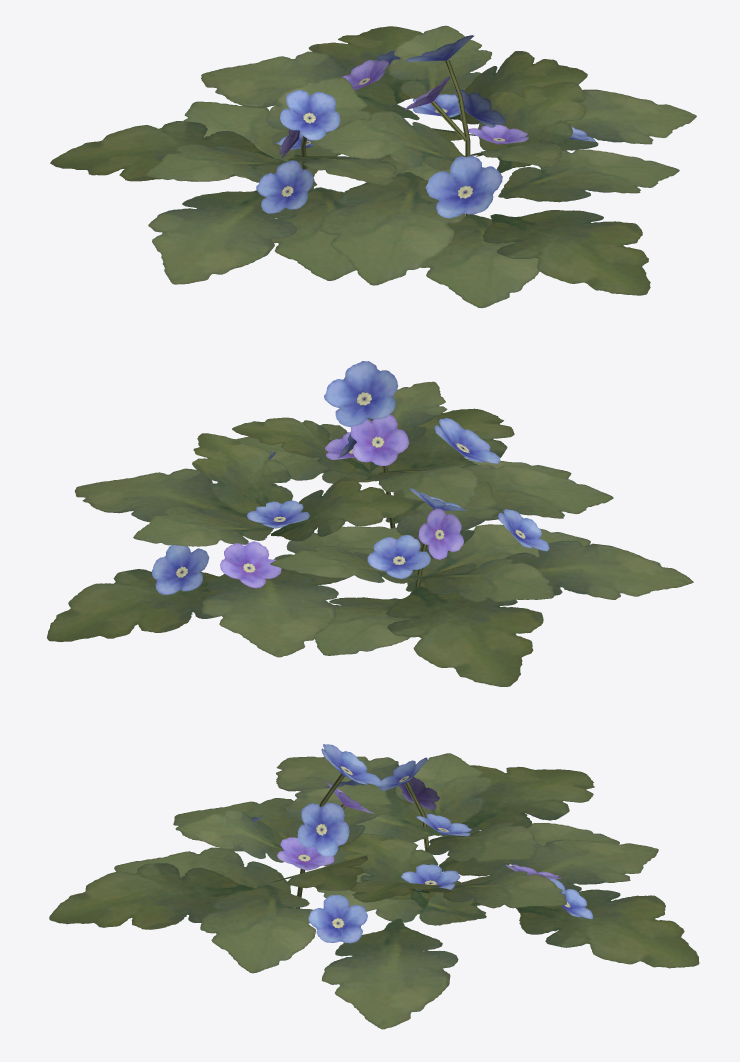
File: Flower3.fbx
3 renders of one model, top to bottom at view 1: azimuth 30°, elevation 25°; view 2: azimuth 150°, elevation 25°; view 3: azimuth 270°, elevation 25°, orthographic. The views are drawn at different scales.
Visible parts, largest first — view 1: SM_cmn_mount_Flower_03a; view 2: SM_cmn_mount_Flower_03a; view 3: SM_cmn_mount_Flower_03a.
Part boxes in pixels (x1,y1,x2,y2): SM_cmn_mount_Flower_03a: (50,25,696,308); SM_cmn_mount_Flower_03a: (47,361,693,686); SM_cmn_mount_Flower_03a: (49,744,699,1029).
Size of the model in its own units: 67.41 by 18.98 by 70.35.
